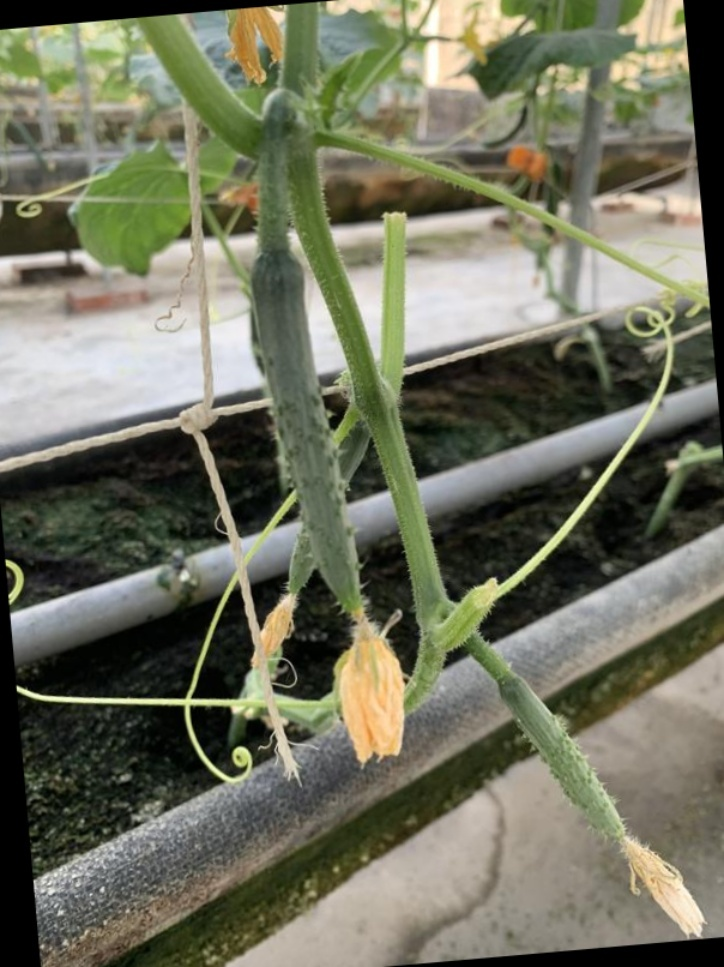bear: (473, 645, 709, 939)
growth: (235, 244, 417, 770)
